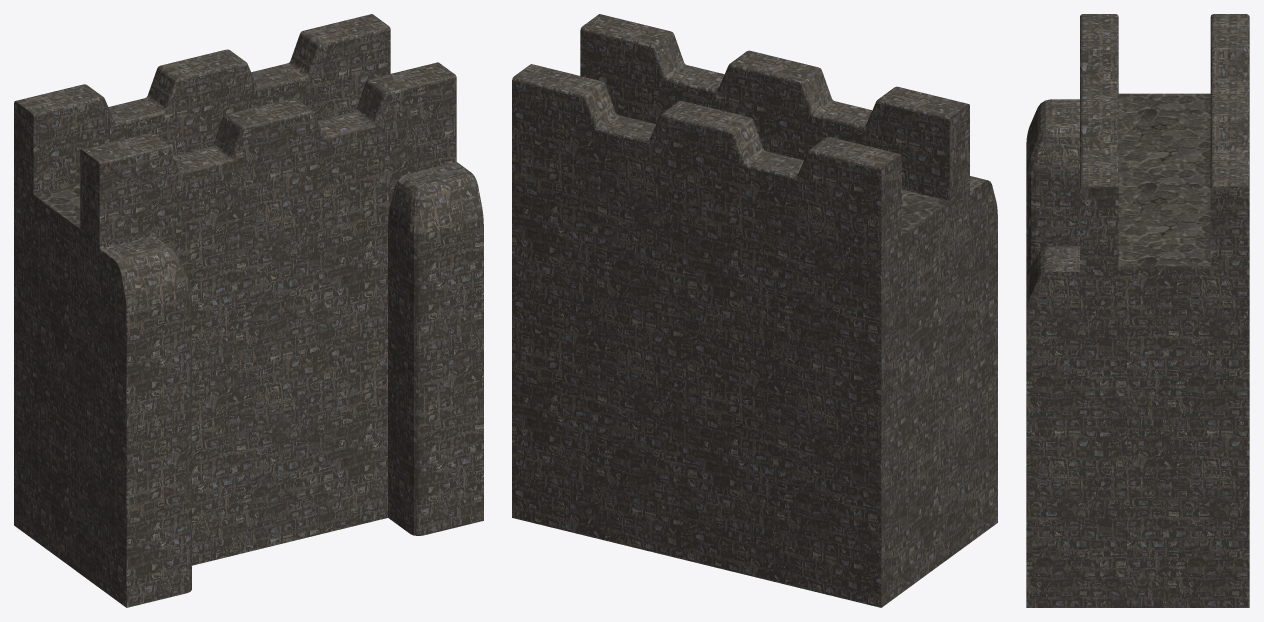
Rendered from CastleWallChunk.fbx.
The picture shows the model from 3 angles, left to right: view 1: azimuth 30°, elevation 25°; view 2: azimuth 150°, elevation 25°; view 3: azimuth 270°, elevation 25°; orthographic projection. The views are drawn at different scales.
Parts seen in each view (by area): view 1: CastleWallChunk; view 2: CastleWallChunk; view 3: CastleWallChunk.
Boxes of the visible parts, x1,y1,x2,y2 form: CastleWallChunk: (14,14,483,607); CastleWallChunk: (512,14,997,607); CastleWallChunk: (1026,14,1249,607).
Size of the model in its own units: 650 by 740 by 355.
